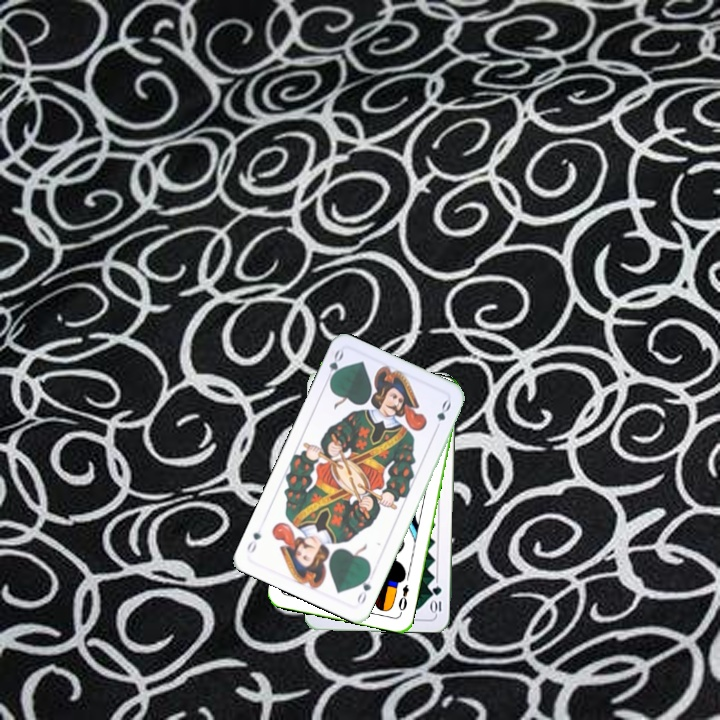EO: (394, 581, 412, 617)
G10: (429, 582, 444, 616)
GO: (321, 346, 346, 387), (353, 568, 374, 607)
